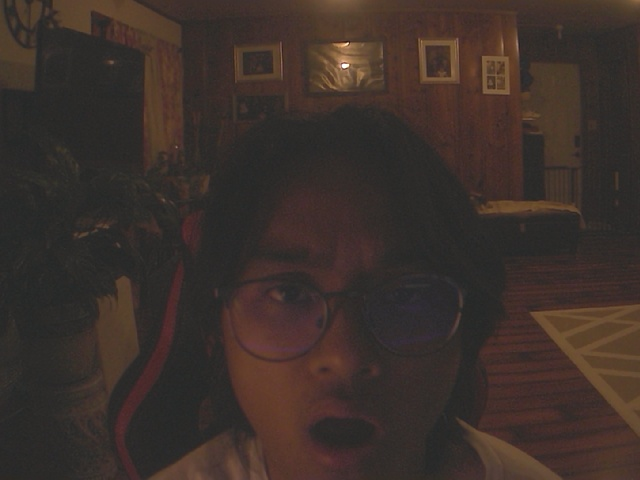fear: (182, 104, 510, 480)
